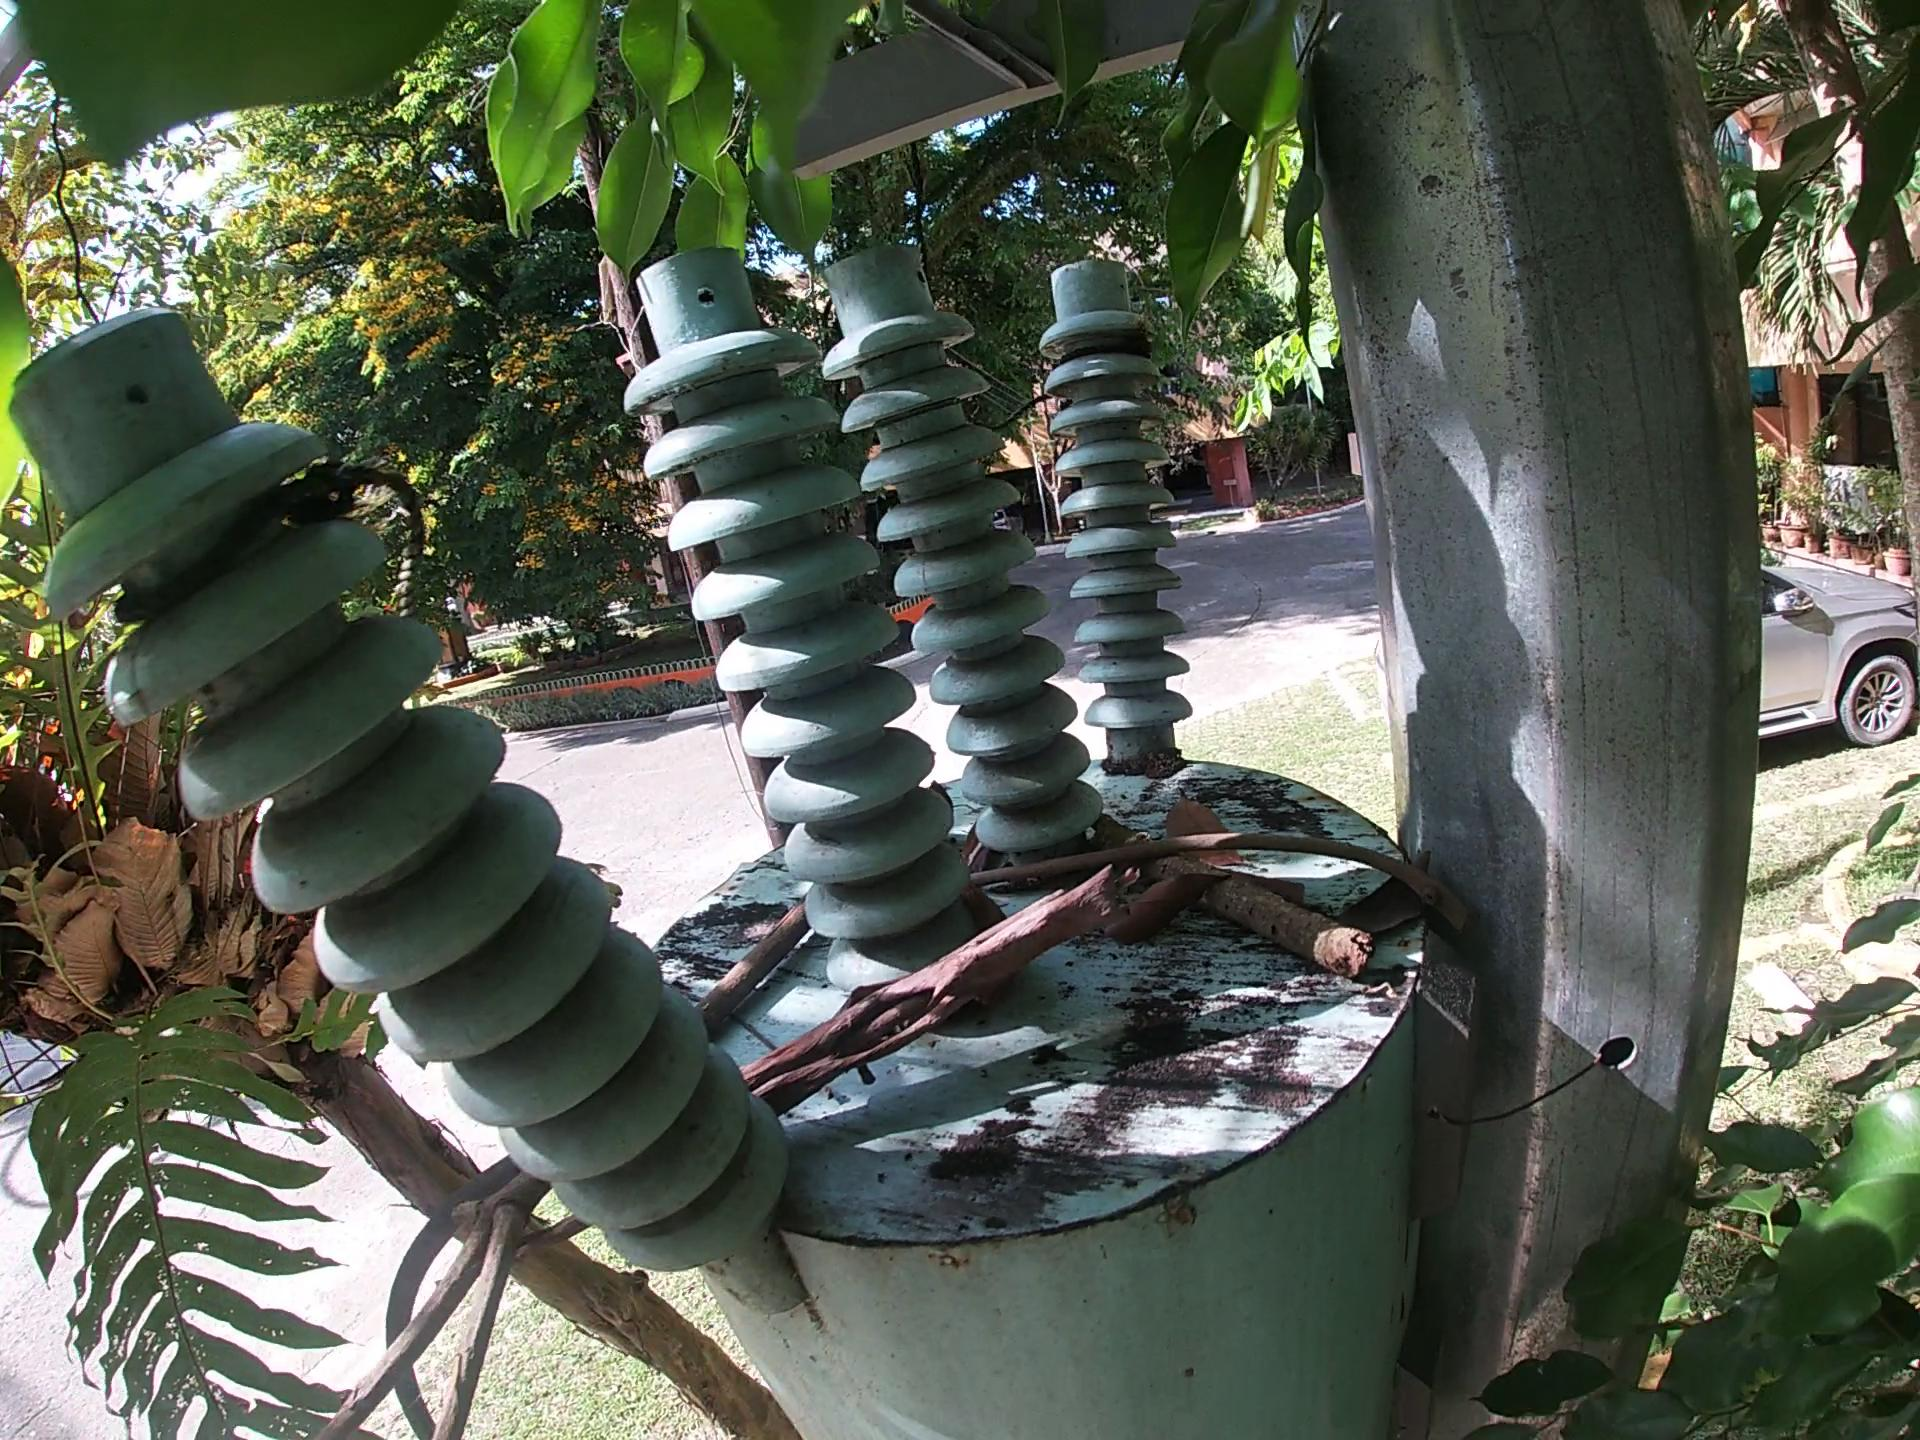leaf: (1101, 862, 1238, 951), (1150, 781, 1265, 867), (1332, 849, 1441, 938)
mahogany fruit: (965, 886, 1025, 1010)
tree branch: (732, 852, 1150, 1115), (308, 1165, 562, 1438), (966, 827, 1486, 948), (1095, 815, 1383, 976), (686, 902, 818, 1045)
